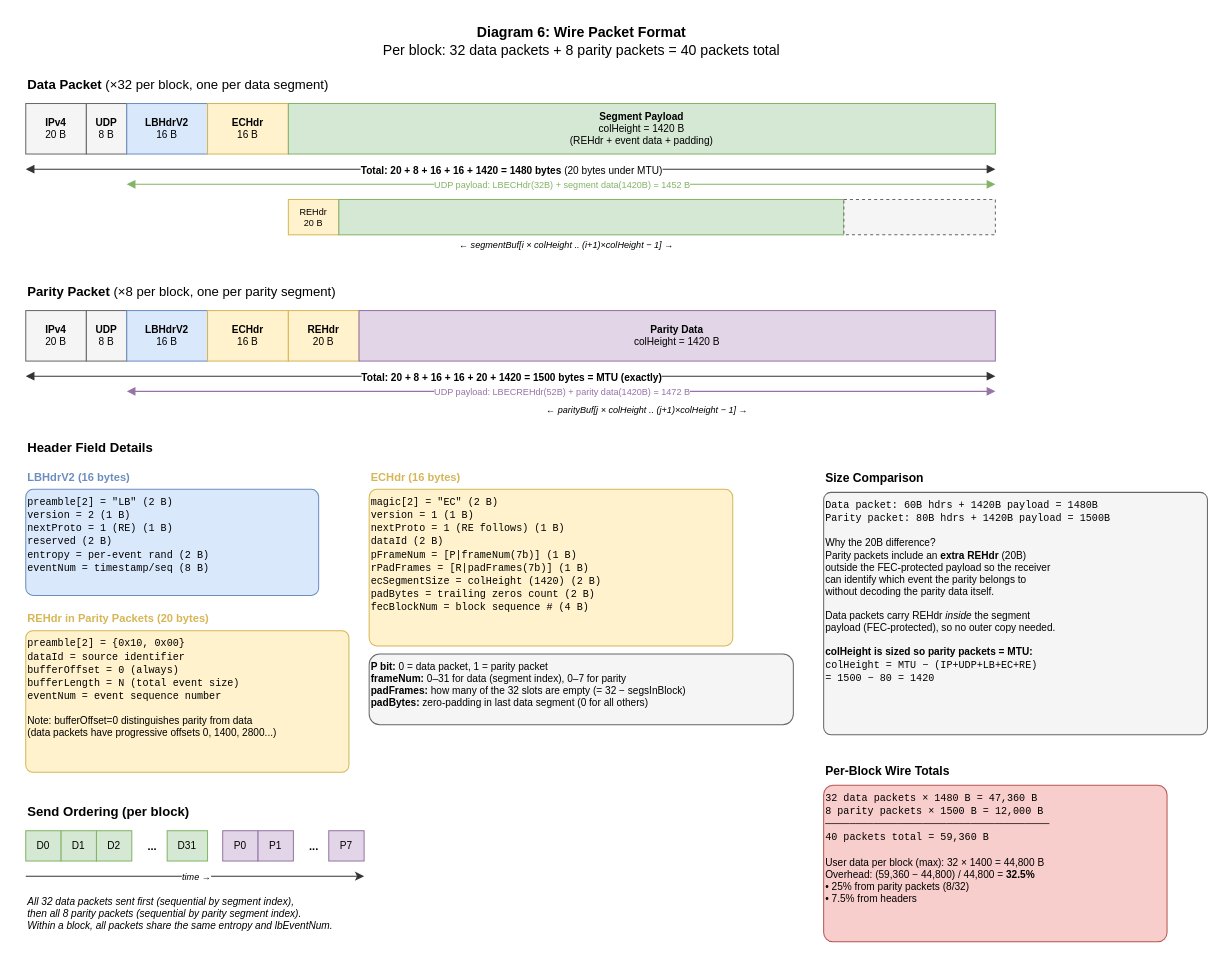
Some shapes in this 1225 by 960 pixel diagram are drawn without their labels. Here are the shapes that lost their labels. From the top down, the centre of each, then its label:
pixel 591 216: Event data (≤ 1400 B)
pixel 919 216: Pad (0+B)
